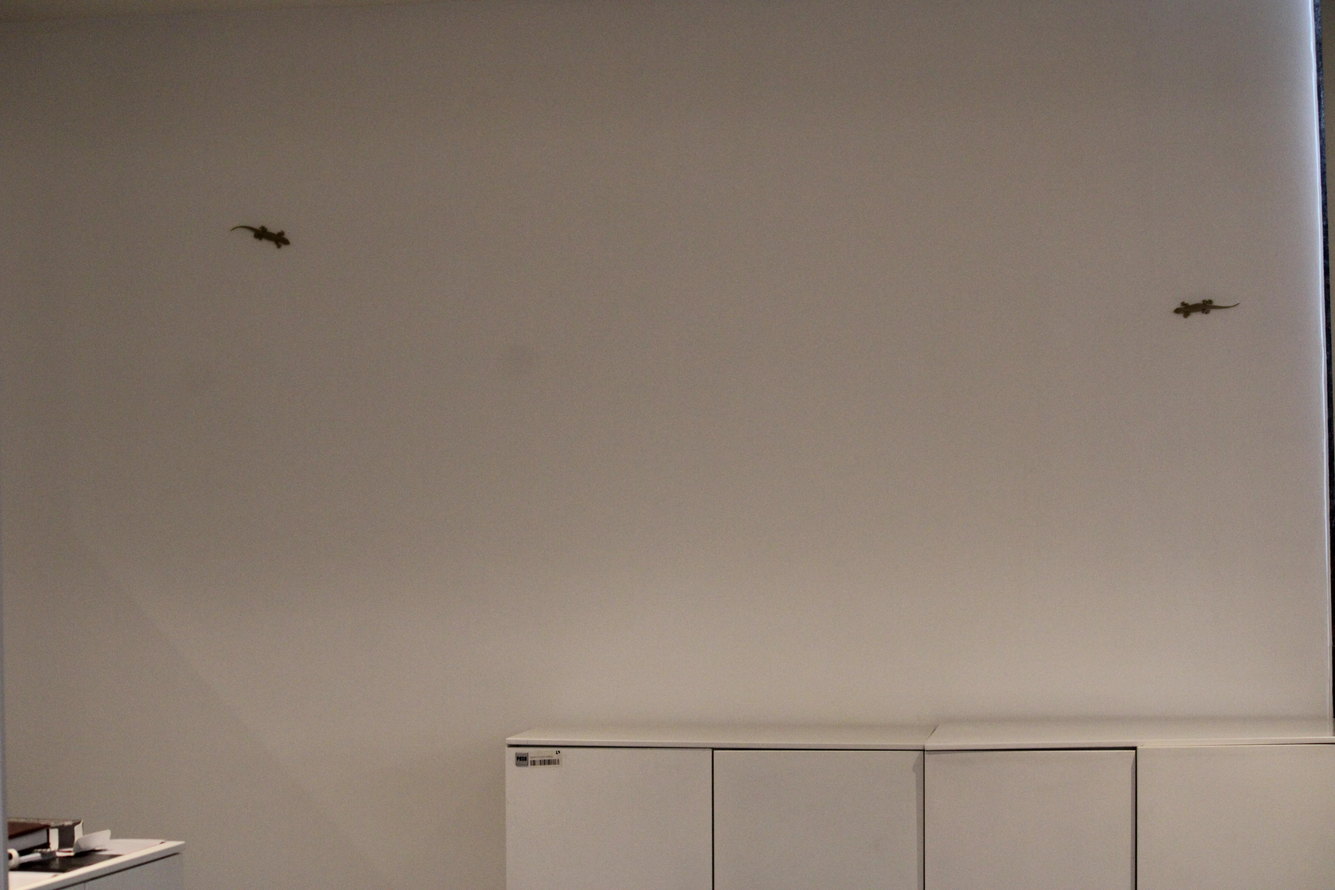lizard: (1155, 283, 1230, 333), (232, 212, 303, 258)
